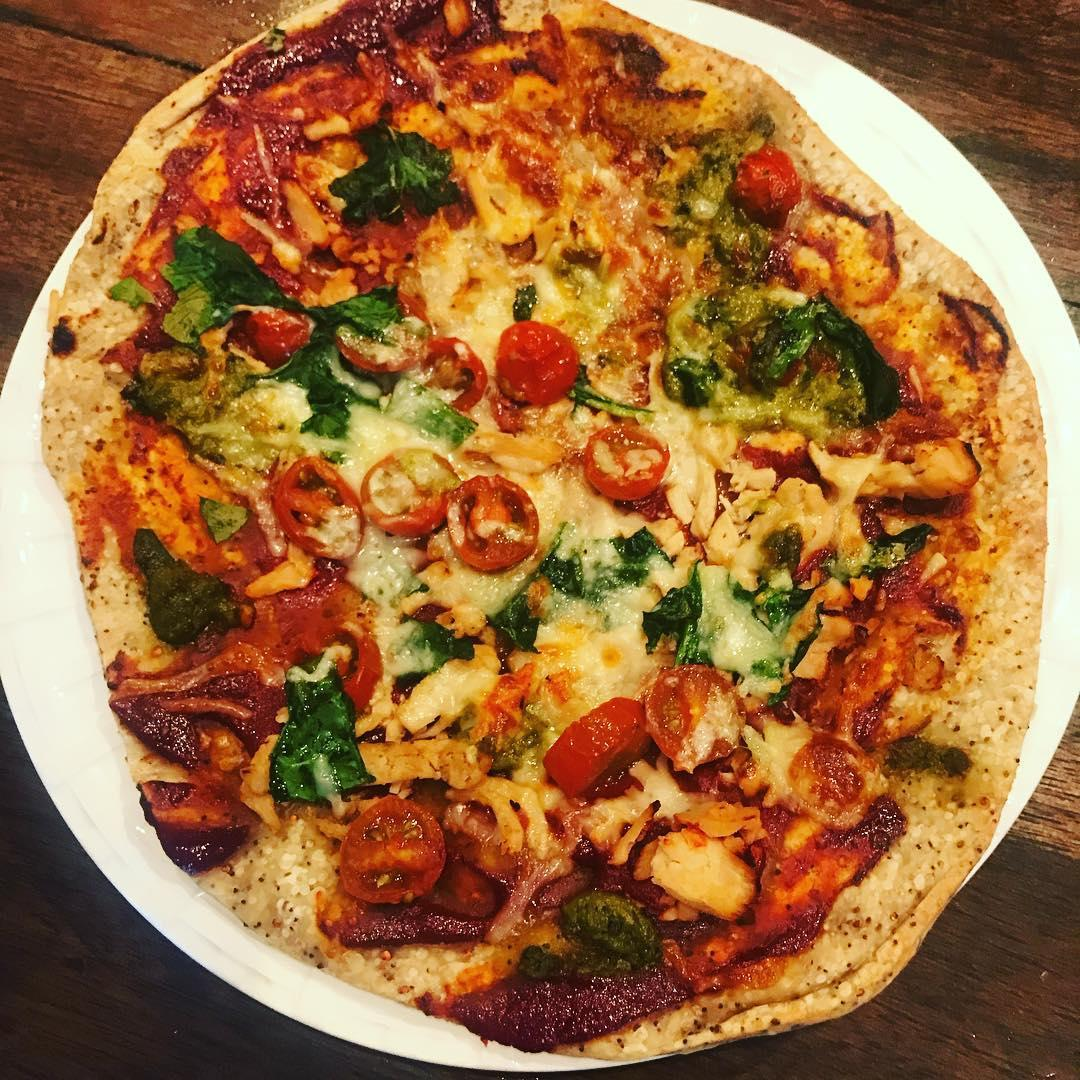Basil: (685, 537, 930, 694), (663, 297, 893, 424), (283, 305, 442, 428), (333, 117, 477, 229), (173, 209, 306, 329), (549, 521, 693, 620)
Broccoli: (101, 489, 242, 664), (241, 653, 384, 793), (645, 113, 758, 266), (103, 357, 264, 457), (519, 913, 674, 981)
Chicken: (821, 447, 1000, 511), (645, 821, 764, 913), (349, 737, 484, 788)
Pizza: (26, 0, 1057, 1043)
Tomatoes: (649, 661, 745, 791), (477, 301, 577, 406), (271, 457, 366, 565), (449, 469, 538, 572), (341, 795, 430, 893), (545, 699, 645, 784), (368, 445, 447, 544), (717, 157, 804, 220), (589, 423, 658, 485)
